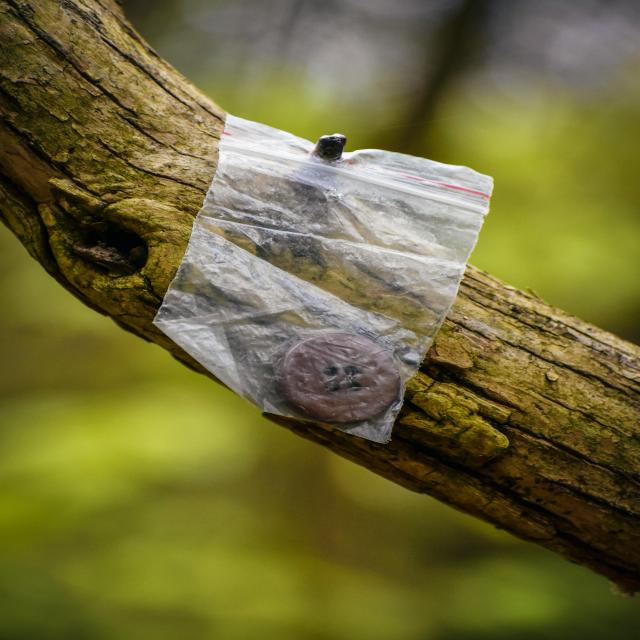plastic: (241, 170, 438, 332)
